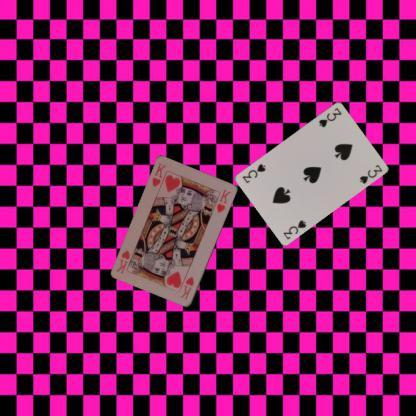3s: (316, 105, 343, 128), (280, 218, 308, 240)
Kh: (178, 274, 196, 301), (150, 160, 167, 188)
